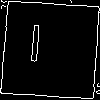I: (25, 24, 44, 72)
